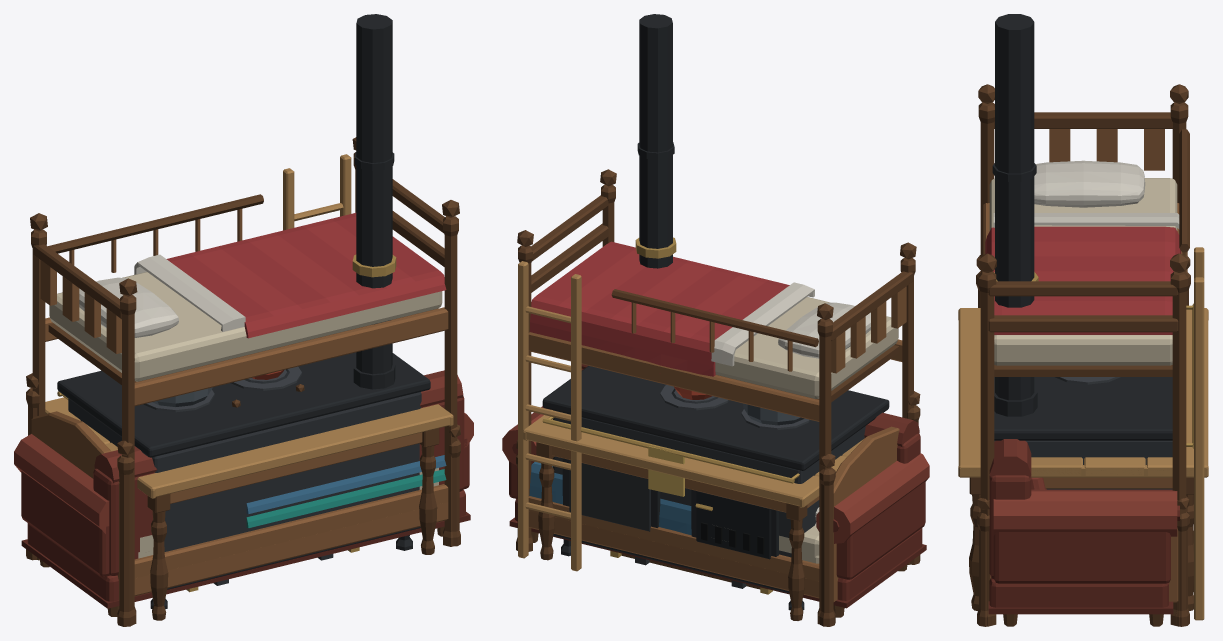
The model's file is muebles.glb.
3 views of the same model, side by side, from view 1: azimuth 30°, elevation 25°; view 2: azimuth 150°, elevation 25°; view 3: azimuth 270°, elevation 25° (orthographic). The views are drawn at different scales.
Parts seen in each view (by area): view 1: prop_litera, prop_fogon, prop_sofa, prop_cama, prop_mesa; view 2: prop_litera, prop_fogon, prop_sofa, prop_mesa, prop_cama, prop_baul; view 3: prop_litera, prop_sofa, prop_fogon, prop_mesa, prop_cama.
Boxes of the visible parts, left/top/right/bottom form: prop_litera: left=30, top=137, right=459, bottom=624; prop_fogon: left=57, top=14, right=430, bottom=609; prop_sofa: left=14, top=370, right=473, bottom=616; prop_cama: left=26, top=373, right=460, bottom=626; prop_mesa: left=45, top=397, right=453, bottom=620; prop_litera: left=517, top=169, right=916, bottom=624; prop_fogon: left=542, top=14, right=889, bottom=610; prop_sofa: left=502, top=364, right=929, bottom=617; prop_mesa: left=523, top=410, right=864, bottom=620; prop_cama: left=516, top=391, right=920, bottom=626; prop_baul: left=610, top=551, right=772, bottom=594; prop_litera: left=978, top=84, right=1204, bottom=626; prop_sofa: left=988, top=439, right=1179, bottom=626; prop_fogon: left=992, top=14, right=1193, bottom=489; prop_mesa: left=958, top=308, right=1208, bottom=610; prop_cama: left=976, top=255, right=1190, bottom=626.
Bounding box in the file's own units: 2.23 × 3 × 1.2.
